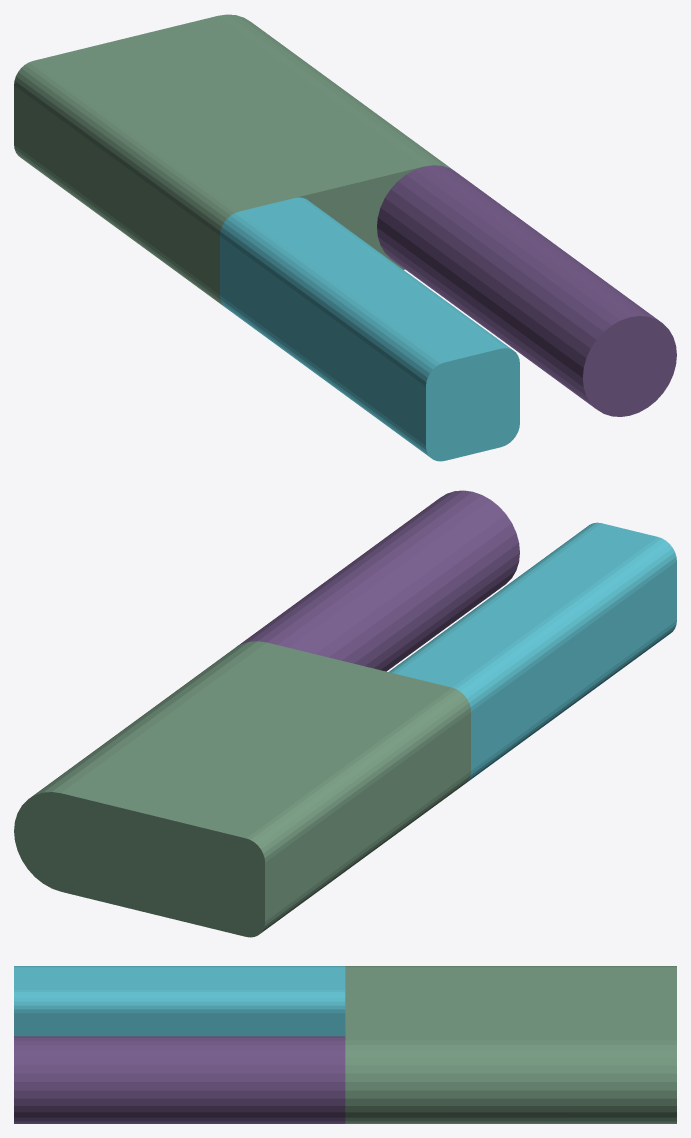
The model's file is peg_41_canonical.obj.
3 views of the same model, one above another, from view 1: azimuth 30°, elevation 25°; view 2: azimuth 150°, elevation 25°; view 3: azimuth 270°, elevation 25° (orthographic). The views are drawn at different scales.
Parts seen in each view (by area): view 1: geometry_0, geometry_2, geometry_1; view 2: geometry_0, geometry_2, geometry_1; view 3: geometry_0, geometry_1, geometry_2.
Part boxes in pixels (x1,y1,x2,y2): geometry_0: (14, 14, 455, 306); geometry_2: (220, 197, 519, 461); geometry_1: (377, 165, 676, 416); geometry_0: (14, 641, 470, 937); geometry_2: (389, 522, 676, 782); geometry_1: (235, 490, 519, 671); geometry_0: (345, 966, 676, 1123); geometry_1: (14, 1036, 345, 1123); geometry_2: (14, 966, 345, 1036).
Size of the model in its own units: 0.0528 by 0.0198 by 0.15.
